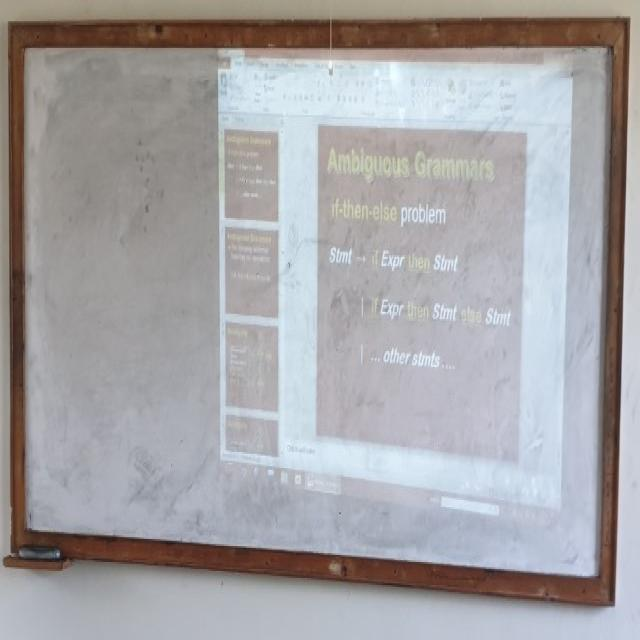Slide: (217, 33, 577, 536)
White-board: (16, 30, 620, 590)
